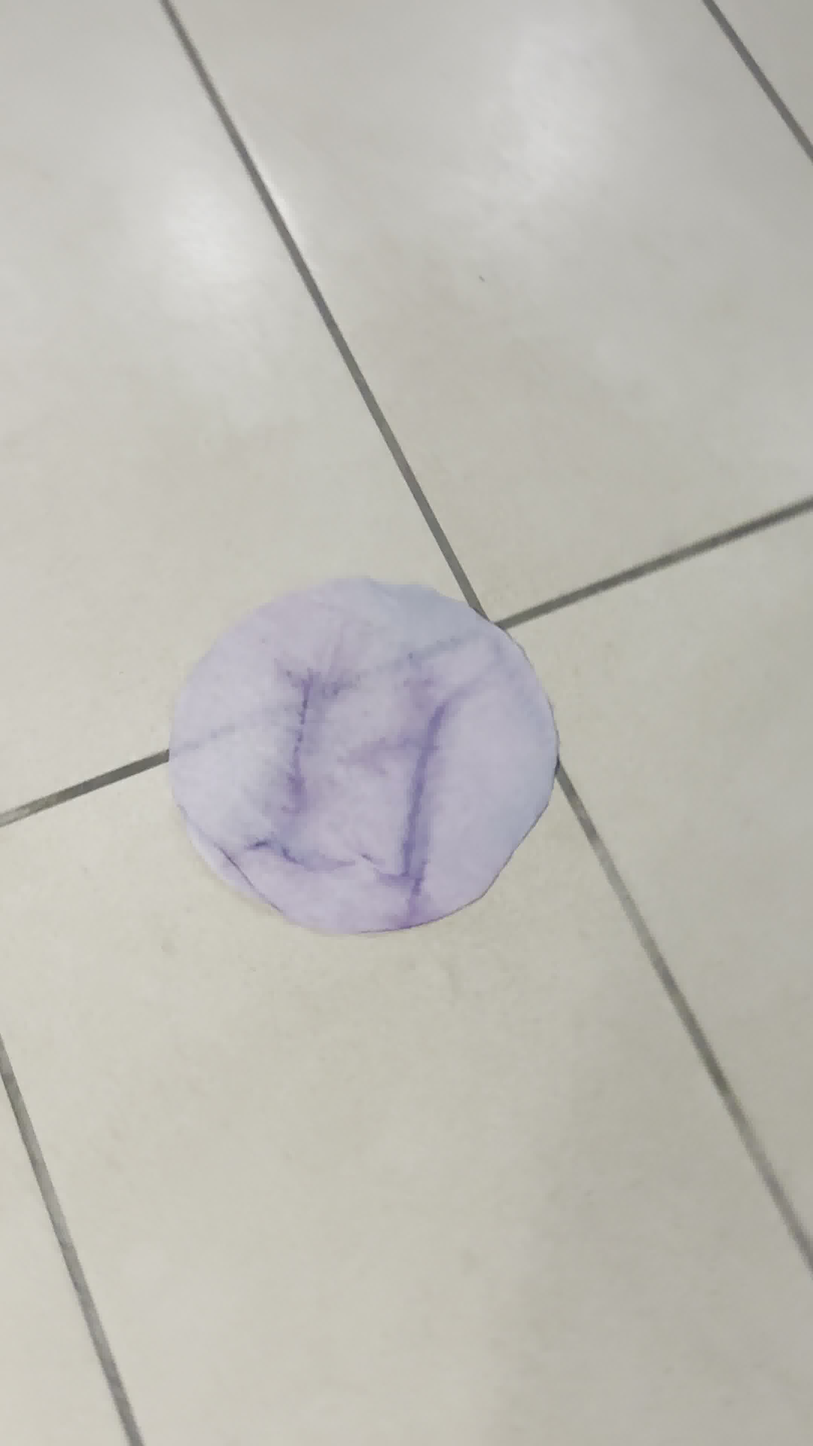Target: (169, 575, 559, 935)
